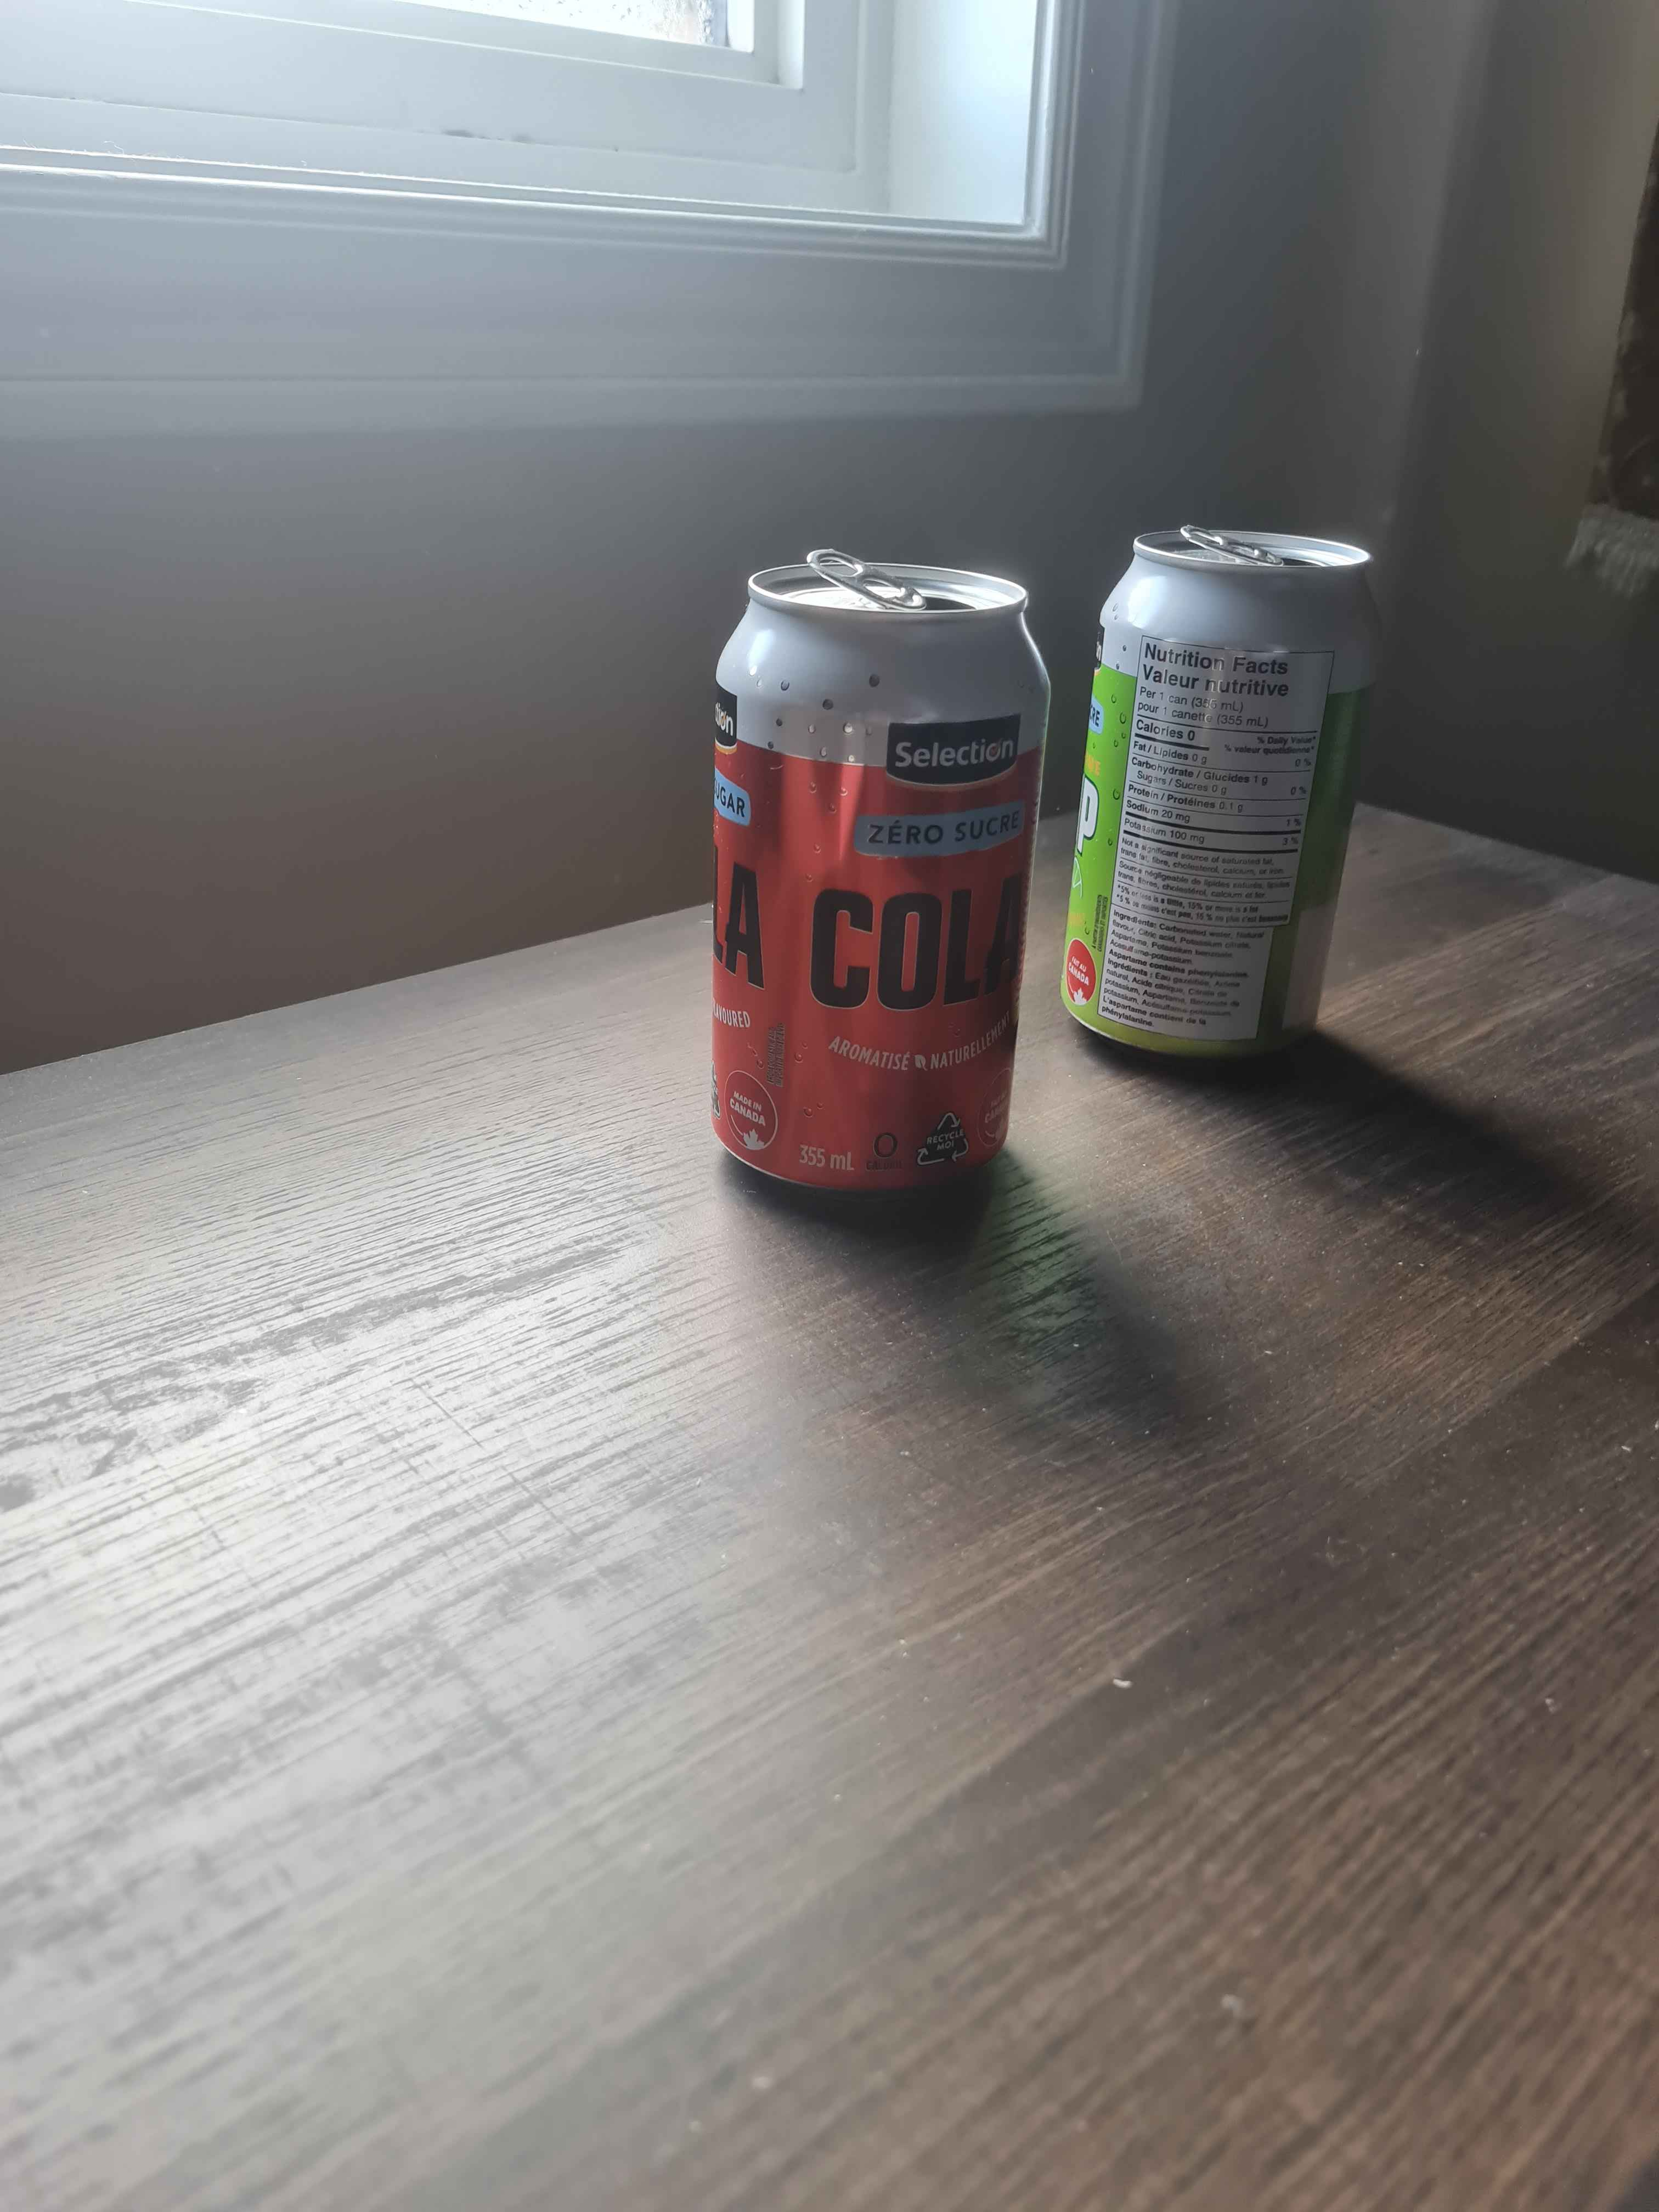soda can: (704, 542, 1056, 1207), (1060, 521, 1387, 1061)
